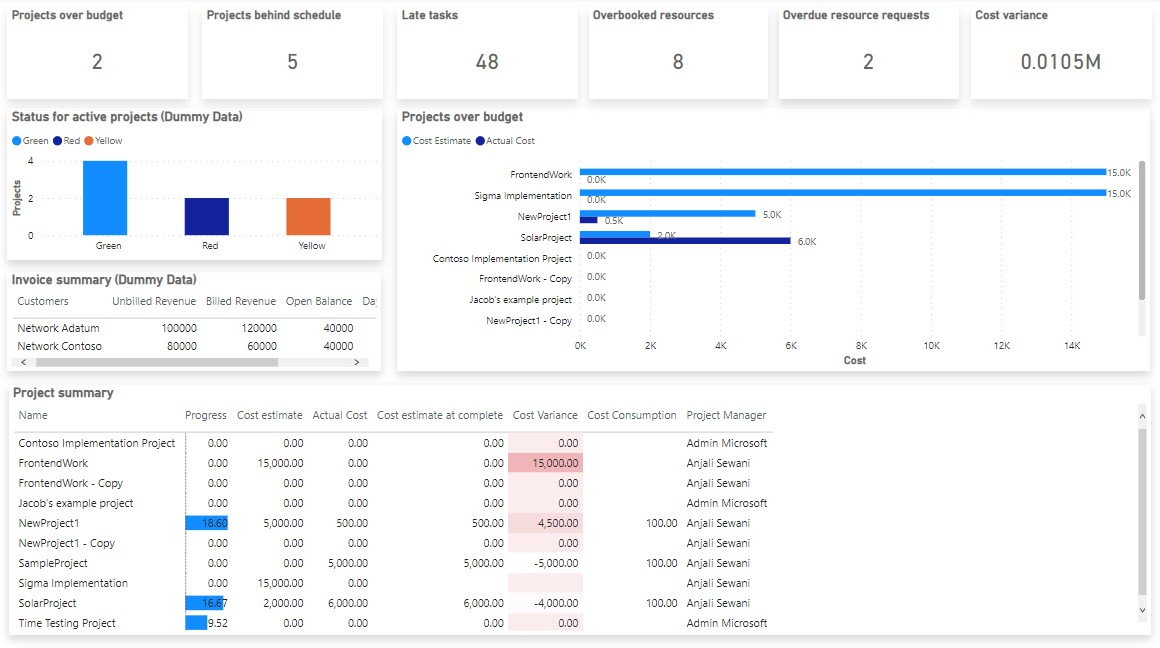

Layout of this report page (visuals, bound fields, positions):
{"tool":"powerbi","page":{"name":"Health","canvas":[1280,720],"ordinal":0},"visuals":[{"type":"clusteredBarChart","title":"Projects over budget","fields":{"Category":["Projects.msdyn_subject"],"Y":["Sum(Projects.msdyn_totalplannedcost)","Sum(Projects.msdyn_totalactualcost)"]},"box":[441.3,122.2,827.6,288.5],"z":0},{"type":"columnChart","title":"Status for active projects (Dummy Data)","fields":{"Category":["Status for active projects.Status"],"Series":["Status for active projects.Status"],"Y":["CountNonNull(Status for active projects.Status)"]},"box":[12.2,122.2,412,167.5],"z":1},{"type":"tableEx","title":"Invoice summary (Dummy Data)","fields":{"Values":["Invoice Summary.Customers","Sum(Invoice Summary.Unbilled Revenue)","Sum(Invoice Summary.Billed Revenue)","Sum(Invoice Summary.Open Balance)","Sum(Invoice Summary.Day Sales Outstanding)"]},"box":[12.2,301.9,410.7,108.8],"z":2},{"type":"tableEx","title":"Project summary","fields":{"Values":["Projects.msdyn_subject","Sum(Projects.msdyn_progress)","Sum(Projects.msdyn_totalplannedcost)","Sum(Projects.msdyn_totalactualcost)","Sum(Projects.msdyn_costestimateatcomplete)","Sum(Projects.msdyn_costvariance)","Sum(Projects.msdyn_costconsumption)","Projects.msdyn_projectmanagername"]},"box":[13.4,425.4,1255.4,275],"z":3},{"type":"card","title":"Projects over budget","fields":{"Values":["CountNonNull(ProjectsOverBudget.DifferenceInBudget)"]},"box":[12.2,12.7,198,100.2],"z":4},{"type":"card","title":"Projects behind schedule","fields":{"Values":["Sum(Health Cards.Projects behind Schedule)"]},"box":[226.1,12.7,198,100.2],"z":5},{"type":"card","title":"Late tasks","fields":{"Values":["AllLateTasks.LateTasksCount"]},"box":[441.3,12.2,198,100.2],"z":6},{"type":"card","title":"    Overbooked resources","fields":{"Values":["Sum(Health Cards.Overbooked Resources)"]},"box":[650.3,12.2,196.8,100.2],"z":7},{"type":"card","title":"Overdue resource requests","fields":{"Values":["Sum(Health Cards.Overdue Resource Requests)"]},"box":[859.4,12.7,198,100.2],"z":8},{"type":"card","title":"Cost variance","fields":{"Values":["Sum(Projects.msdyn_costvariance)"]},"box":[1070.8,12.2,198,100.2],"z":9}]}

Visuals, with their boxes in screenshot pixels (x1, y1, x2, y2), scaled from the page's 1280x720 canvas onto the 1160x648 screenshot:
"Projects over budget" clusteredBarChart: box(400, 110, 1150, 370)
"Status for active projects (Dummy Data)" columnChart: box(11, 110, 384, 261)
"Invoice summary (Dummy Data)" tableEx: box(11, 272, 383, 370)
"Project summary" tableEx: box(12, 383, 1150, 630)
"Projects over budget" card: box(11, 11, 190, 102)
"Projects behind schedule" card: box(205, 11, 384, 102)
"Late tasks" card: box(400, 11, 579, 101)
"    Overbooked resources" card: box(589, 11, 768, 101)
"Overdue resource requests" card: box(779, 11, 958, 102)
"Cost variance" card: box(970, 11, 1150, 101)
